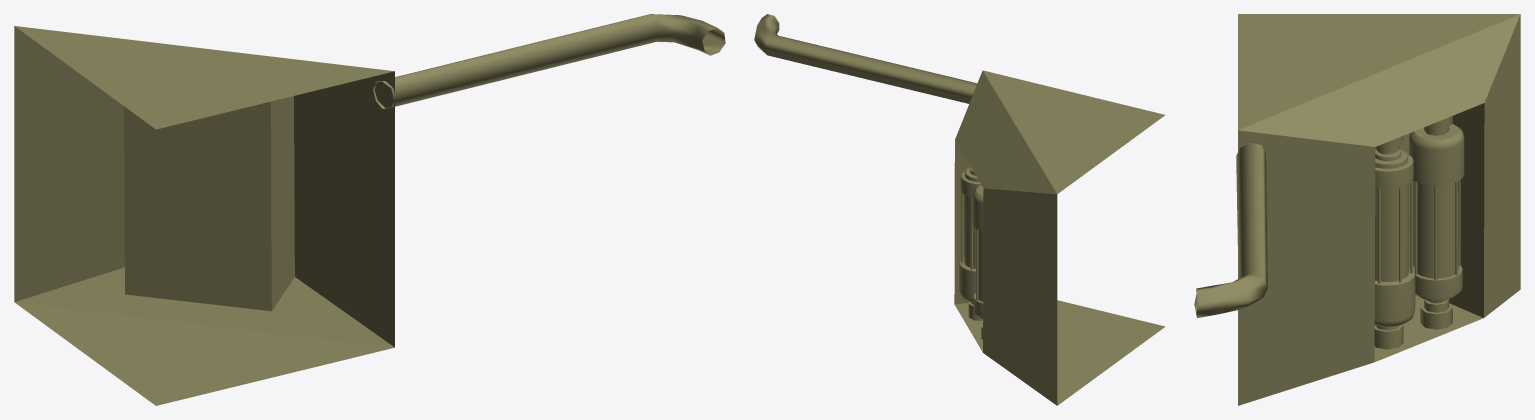
The model's file is BarierGenerator.fbx.
3 renders of one model, left to right at view 1: azimuth 30°, elevation 25°; view 2: azimuth 150°, elevation 25°; view 3: azimuth 270°, elevation 25°, orthographic. The views are drawn at different scales.
Visible parts, largest first — view 1: Box, Wire; view 2: Box, Wire, Battery_2, Battery_1; view 3: Box, Battery_1, Battery_2, Wire, Battery_1.001, Battery_2.001, Battery_1.002.
Part boxes in pixels (box(x1,y1,x2,y2)): Box: box(14, 26, 394, 405); Wire: box(373, 14, 725, 108); Box: box(954, 70, 1165, 405); Wire: box(754, 14, 977, 103); Battery_2: box(959, 167, 981, 302); Battery_1: box(972, 185, 983, 318); Box: box(1238, 14, 1520, 405); Battery_1: box(1409, 124, 1464, 303); Battery_2: box(1374, 149, 1415, 326); Wire: box(1194, 142, 1267, 317); Battery_1.001: box(1420, 299, 1452, 329); Battery_2.001: box(1374, 324, 1403, 349); Battery_1.002: box(1424, 116, 1452, 135).
Bounding box in the file's own units: 467 × 224 × 241.
